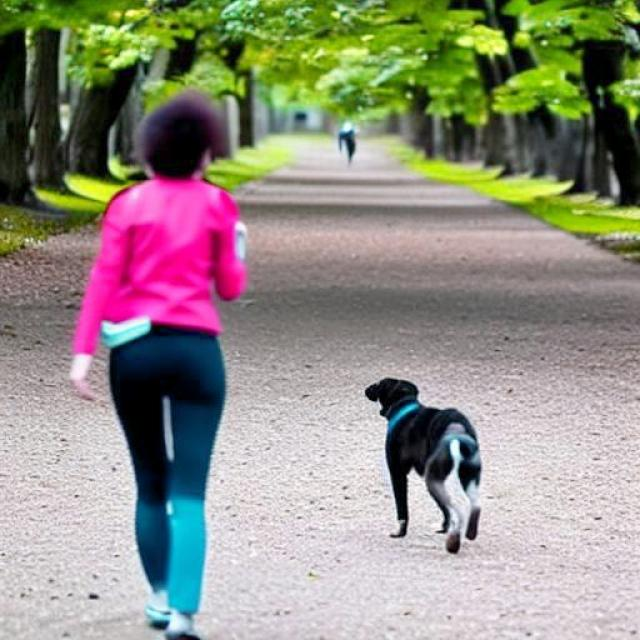Unleashed_Dog: (124, 332, 482, 554)
